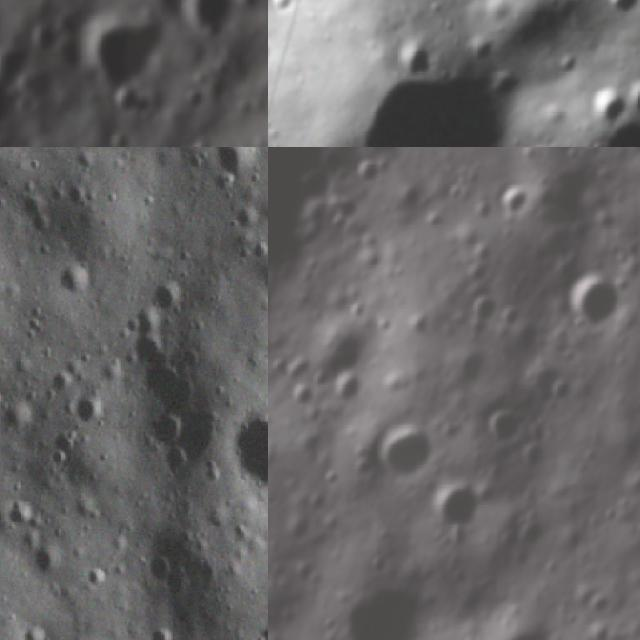crater: (334, 31, 535, 147), (314, 546, 454, 640), (299, 304, 391, 401), (362, 411, 450, 498), (551, 258, 636, 346), (431, 595, 563, 640), (88, 17, 166, 88), (423, 466, 490, 541), (512, 350, 580, 413), (229, 390, 268, 499), (434, 340, 491, 403), (286, 151, 341, 213), (387, 29, 440, 85), (488, 173, 541, 228), (471, 404, 525, 456), (461, 284, 514, 334), (501, 314, 549, 367), (393, 299, 442, 350), (324, 364, 372, 411), (586, 81, 634, 127), (120, 332, 180, 366), (209, 147, 263, 183), (458, 250, 500, 294), (52, 267, 97, 307), (26, 539, 70, 579), (512, 510, 554, 551), (142, 546, 177, 595), (580, 585, 620, 625), (354, 147, 425, 169), (513, 435, 551, 475), (150, 407, 188, 444), (348, 157, 385, 195), (194, 0, 234, 35), (71, 388, 105, 429), (283, 378, 318, 417), (160, 445, 195, 483), (150, 280, 184, 317), (2, 494, 36, 530), (467, 235, 502, 268), (0, 44, 31, 81), (598, 0, 640, 27), (441, 178, 474, 209), (291, 0, 351, 16), (17, 615, 55, 640), (580, 613, 615, 640), (268, 347, 293, 382), (37, 19, 60, 55), (493, 526, 522, 554), (141, 619, 179, 640), (626, 69, 640, 122), (81, 565, 108, 592), (0, 89, 22, 122), (190, 68, 213, 92), (183, 93, 209, 112), (237, 95, 258, 117), (109, 131, 135, 147), (254, 618, 268, 640), (239, 0, 261, 9), (194, 139, 216, 147)
